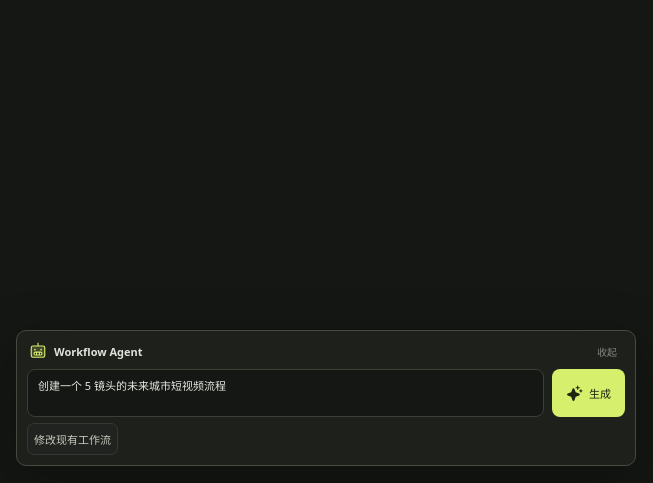
it: AgentComposer › shows preview with intent structure after successful generate
Click the button "生成" at {"x": 588, "y": 393}, box [552,369,625,417]
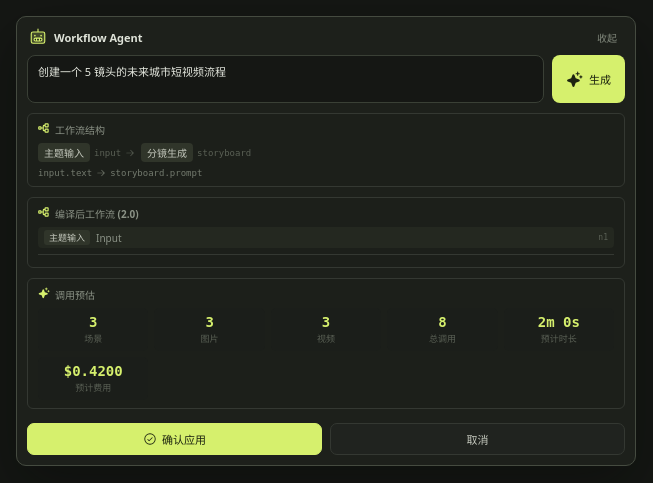
Check: the text "工作流结构" is shown, box [38,122,105,137]
Check: the text "input" is shown, box [94,148,121,158]
Check: the text "storyboard" is shown, box [197,148,251,158]
